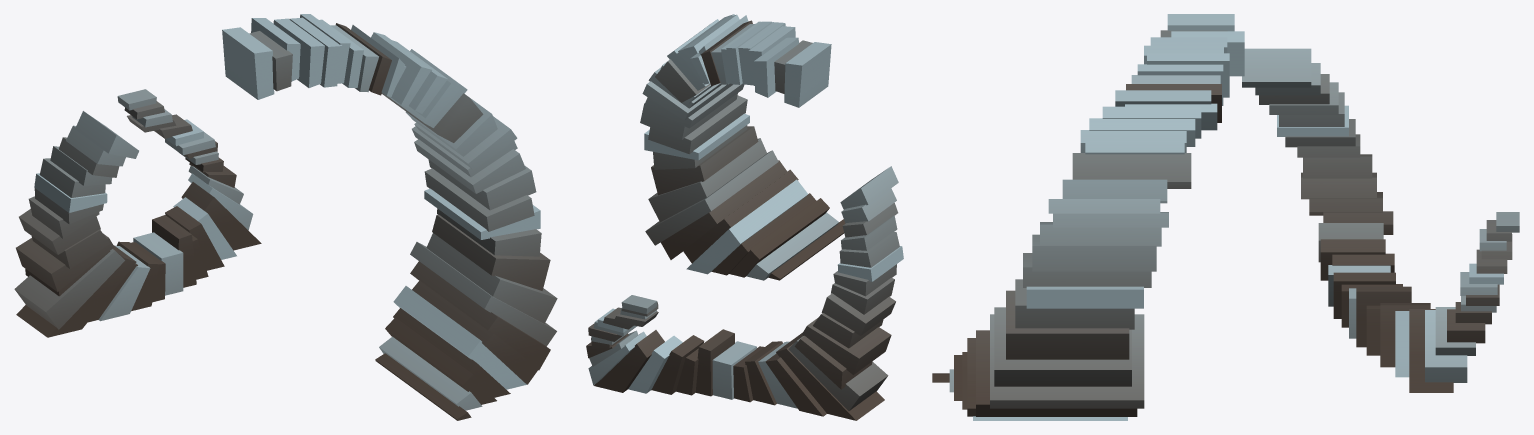
The model's file is GEO_flacan_spiral.fbx.
The picture shows the model from 3 angles, left to right: view 1: azimuth 30°, elevation 25°; view 2: azimuth 150°, elevation 25°; view 3: azimuth 270°, elevation 25°; orthographic projection. The views are drawn at different scales.
Visible parts, largest first — view 1: GEO_flacan_spiral; view 2: GEO_flacan_spiral; view 3: GEO_flacan_spiral.
Part boxes in pixels (x1,y1,x2,y2): GEO_flacan_spiral: [14, 14, 557, 420]; GEO_flacan_spiral: [586, 14, 903, 420]; GEO_flacan_spiral: [932, 14, 1519, 420].
Bounding box in the file's own units: 575 × 473 × 794.
Materials: 1 (1 with a texture image).
